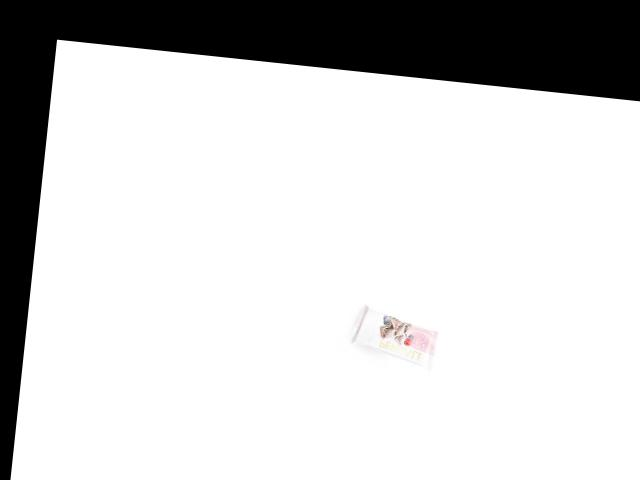chocolate: (351, 301, 440, 370)
